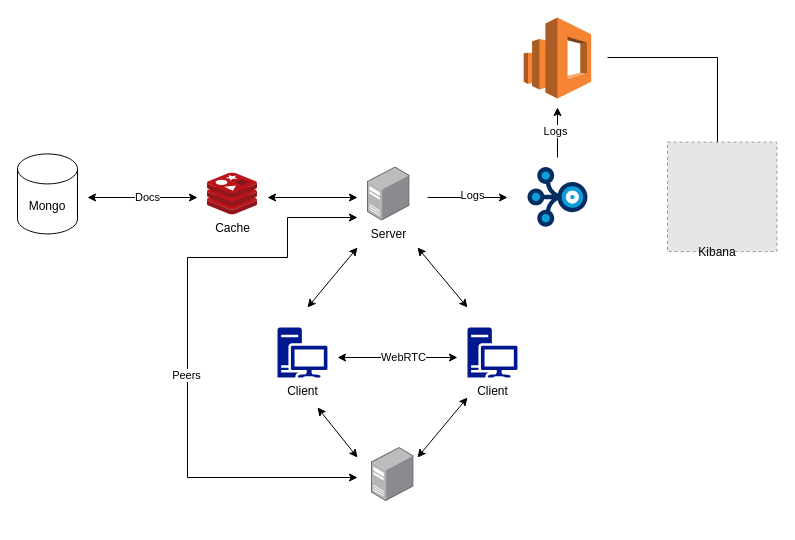
Image size: 795x540. Some labels were removed from this diagram. Grey dashed boxes stand in for pictures. The shapes that lost their labels are listed below. From the top down, each one's box as (x1, y1, x2, y2) in pixels, then its label:
(526, 166, 588, 227): Kafka Broker
(371, 447, 414, 501): PeerJS Signaling Server
